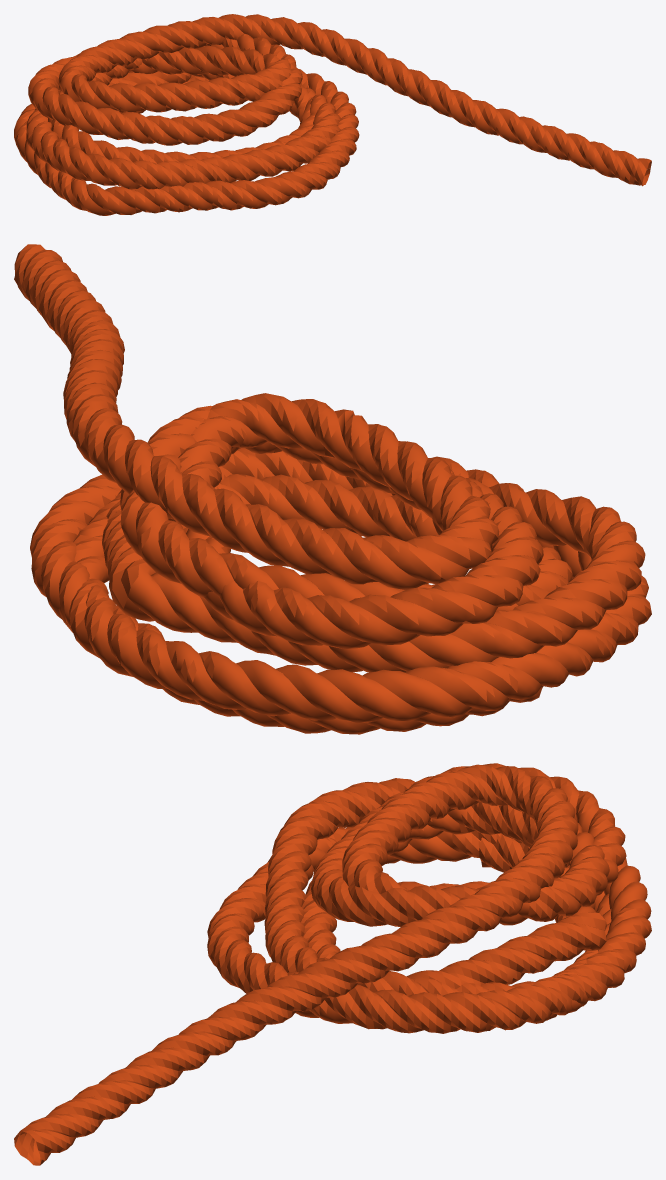
File: rope.obj
3 views of the same model, one above another, from view 1: azimuth 30°, elevation 25°; view 2: azimuth 150°, elevation 25°; view 3: azimuth 270°, elevation 25° (orthographic). The views are drawn at different scales.
Visible parts, largest first — view 1: Circle_002_Material_001_0; view 2: Circle_002_Material_001_0; view 3: Circle_002_Material_001_0.
Part boxes in pixels (<box>): Circle_002_Material_001_0: <box>14,14,651,215</box>; Circle_002_Material_001_0: <box>14,244,651,734</box>; Circle_002_Material_001_0: <box>14,763,651,1165</box>.
Bounding box in the file's own units: 0.9653 × 0.2061 × 0.8087.
